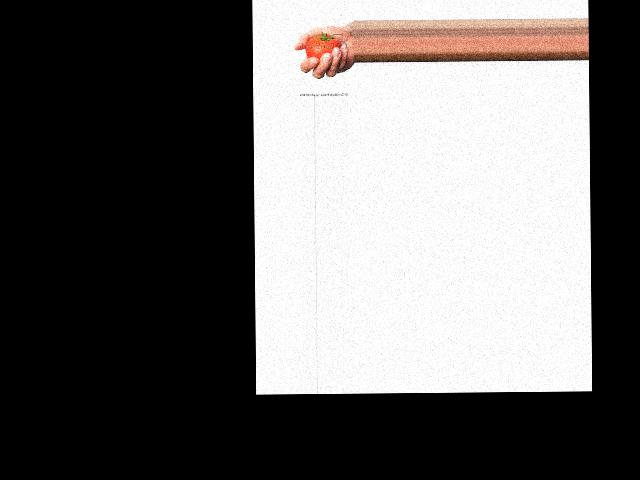tomato: (305, 33, 340, 58)
